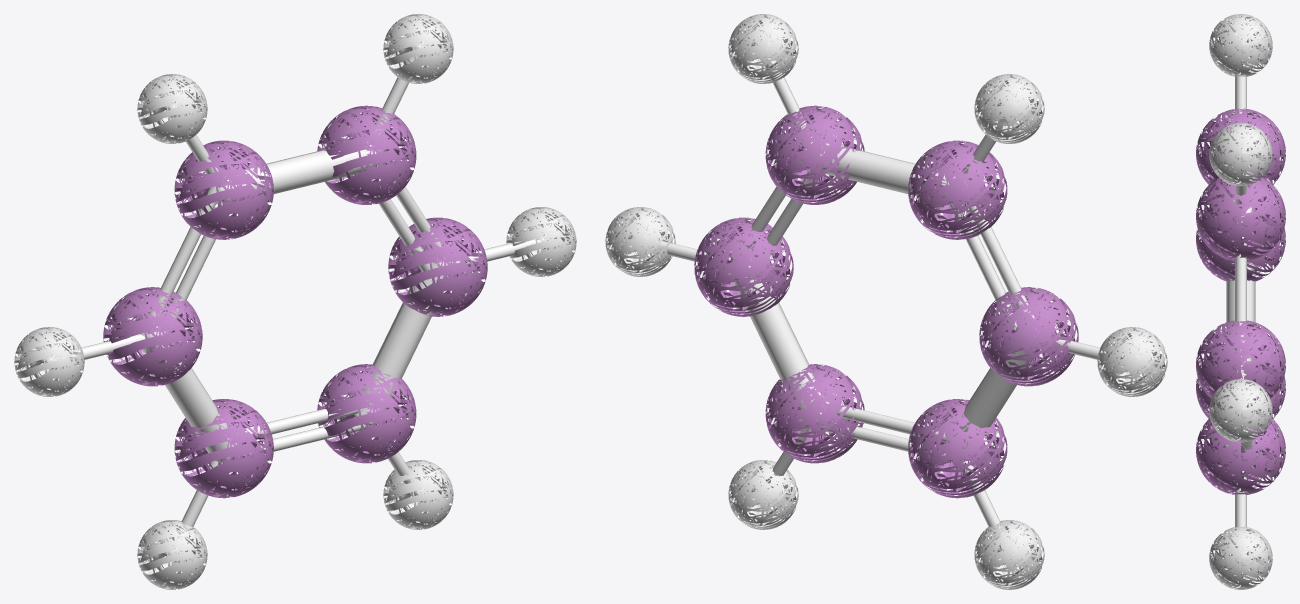
File: Benzene_236.gltf
3 renders of one model, left to right at view 1: azimuth 30°, elevation 25°; view 2: azimuth 150°, elevation 25°; view 3: azimuth 270°, elevation 25°, orthographic. The views are drawn at different scales.
Visible parts, largest first — view 1: node-geom19, node-geom17, node-geom18, node-geom16, node-geom20, node-geom15, node-geom25, node-geom23, node-geom26, node-geom21, node-geom22, node-geom24 (+11 smaller); view 2: node-geom19, node-geom17, node-geom18, node-geom16, node-geom20, node-geom15, node-geom23, node-geom26, node-geom25, node-geom21, node-geom24, node-geom22 (+11 smaller); view 3: node-geom20, node-geom18, node-geom16, node-geom24, node-geom26, node-geom22, node-geom25, node-geom19, node-geom17, node-geom9, node-geom2, node-geom15 (+4 smaller).
Boxes of the visible parts, x1=… form: node-geom19: x1=174, y1=140, x2=273, y2=239; node-geom17: x1=103, y1=287, x2=202, y2=386; node-geom18: x1=388, y1=217, x2=487, y2=316; node-geom16: x1=317, y1=364, x2=416, y2=463; node-geom20: x1=317, y1=105, x2=416, y2=204; node-geom15: x1=174, y1=399, x2=273, y2=498; node-geom25: x1=137, y1=74, x2=207, y2=143; node-geom23: x1=14, y1=327, x2=84, y2=396; node-geom26: x1=383, y1=14, x2=453, y2=83; node-geom21: x1=137, y1=520, x2=207, y2=589; node-geom22: x1=383, y1=460, x2=453, y2=529; node-geom24: x1=506, y1=207, x2=576, y2=276; node-geom19: x1=908, y1=140, x2=1007, y2=239; node-geom17: x1=979, y1=287, x2=1078, y2=386; node-geom18: x1=694, y1=217, x2=793, y2=316; node-geom16: x1=765, y1=364, x2=864, y2=463; node-geom20: x1=765, y1=105, x2=864, y2=204; node-geom15: x1=908, y1=399, x2=1007, y2=498; node-geom23: x1=1097, y1=327, x2=1167, y2=396; node-geom26: x1=728, y1=14, x2=798, y2=83; node-geom25: x1=974, y1=74, x2=1044, y2=143; node-geom21: x1=974, y1=520, x2=1044, y2=589; node-geom24: x1=605, y1=207, x2=675, y2=276; node-geom22: x1=728, y1=460, x2=798, y2=529; node-geom20: x1=1196, y1=173, x2=1285, y2=260; node-geom18: x1=1196, y1=320, x2=1285, y2=407; node-geom16: x1=1196, y1=410, x2=1285, y2=494; node-geom24: x1=1209, y1=379, x2=1272, y2=442; node-geom26: x1=1209, y1=122, x2=1272, y2=186; node-geom22: x1=1209, y1=526, x2=1272, y2=589; node-geom25: x1=1209, y1=14, x2=1272, y2=76; node-geom19: x1=1196, y1=108, x2=1285, y2=195; node-geom17: x1=1196, y1=199, x2=1285, y2=281; node-geom9: x1=1235, y1=214, x2=1246, y2=365; node-geom2: x1=1226, y1=262, x2=1255, y2=360; node-geom15: x1=1196, y1=345, x2=1285, y2=418.
Size of the model in its own units: 5.46e-10 by 4.81e-10 by 8.5e-11.
